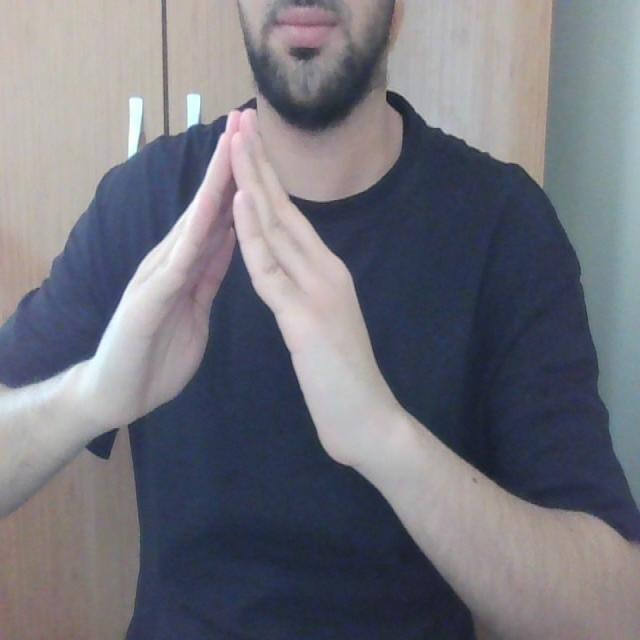Ev: (82, 106, 392, 475)
